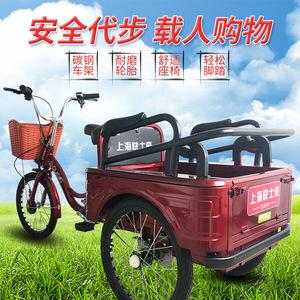empty: (3, 85, 298, 300)
